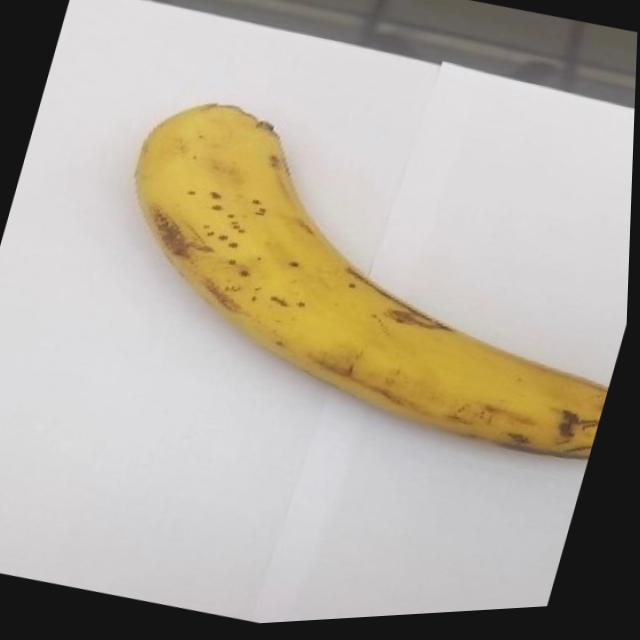Banana: (77, 70, 637, 498)
